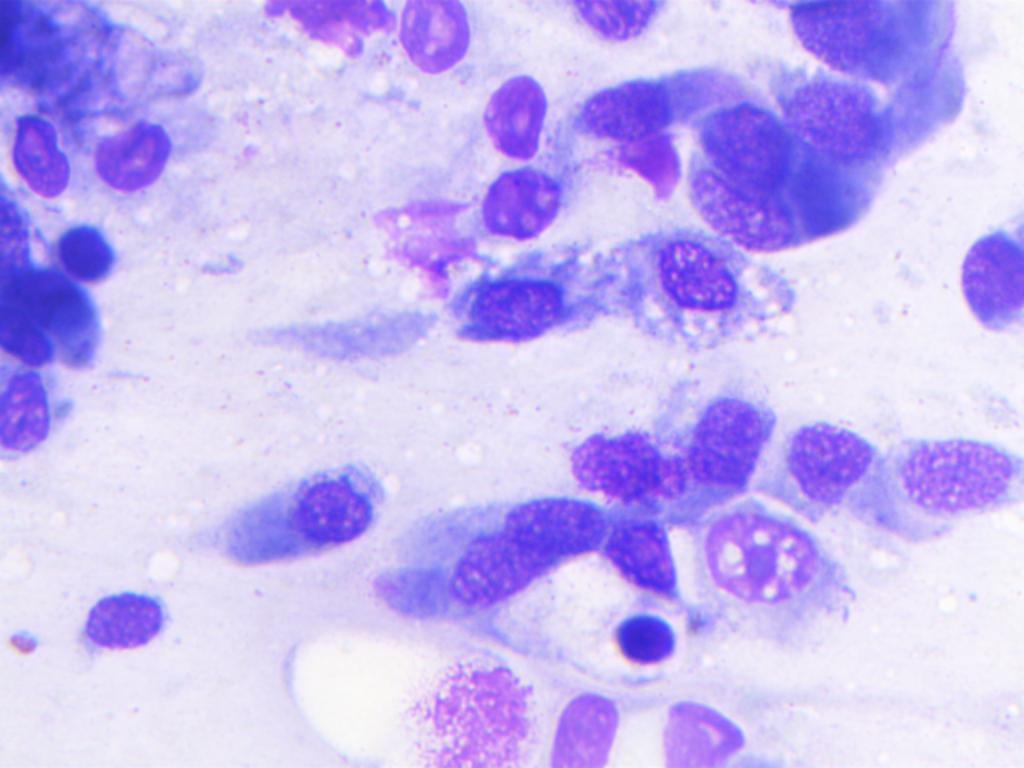epithelial: (701, 492, 828, 612), (548, 423, 694, 510), (680, 383, 777, 509), (785, 402, 884, 518), (903, 428, 1022, 522), (453, 262, 578, 350), (473, 152, 576, 248), (696, 97, 798, 191), (649, 232, 754, 320), (67, 580, 182, 660), (81, 118, 190, 202), (953, 228, 1024, 344), (285, 470, 390, 546), (479, 70, 564, 162), (545, 676, 630, 768), (5, 106, 80, 202), (393, 3, 486, 80), (657, 701, 756, 768), (3, 364, 58, 468)
metaplastic: (54, 212, 120, 294), (604, 609, 689, 669)
